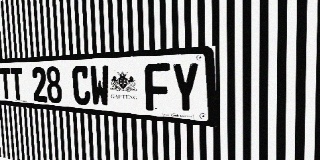2: (32, 67, 47, 102)
8: (46, 66, 62, 104)
C: (72, 65, 91, 106)
F: (145, 63, 171, 112)
T: (10, 67, 24, 100), (0, 68, 12, 100)
W: (90, 65, 110, 107)
Y: (171, 62, 200, 115)
